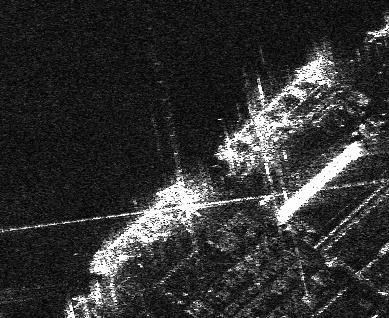ship: (213, 49, 331, 171), (87, 171, 197, 281)
